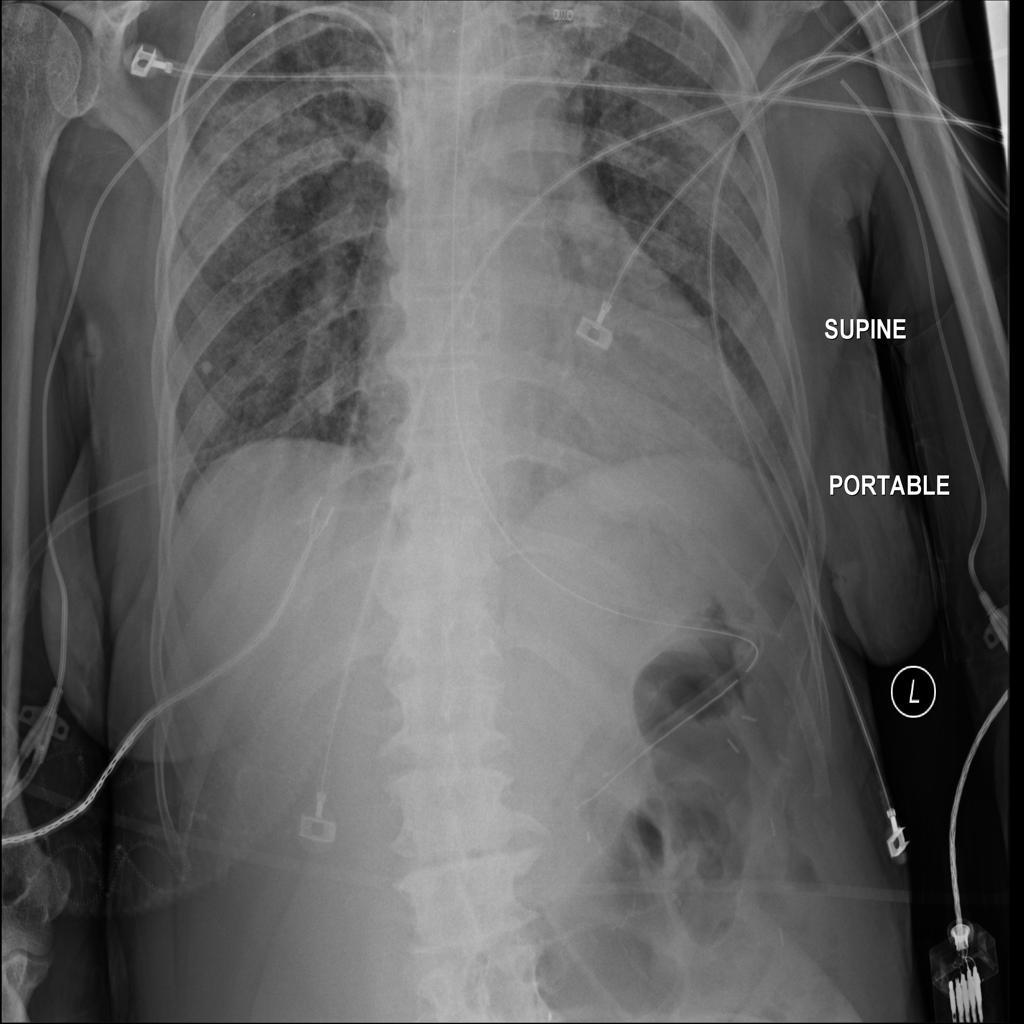nodule: (190, 347, 227, 384)
